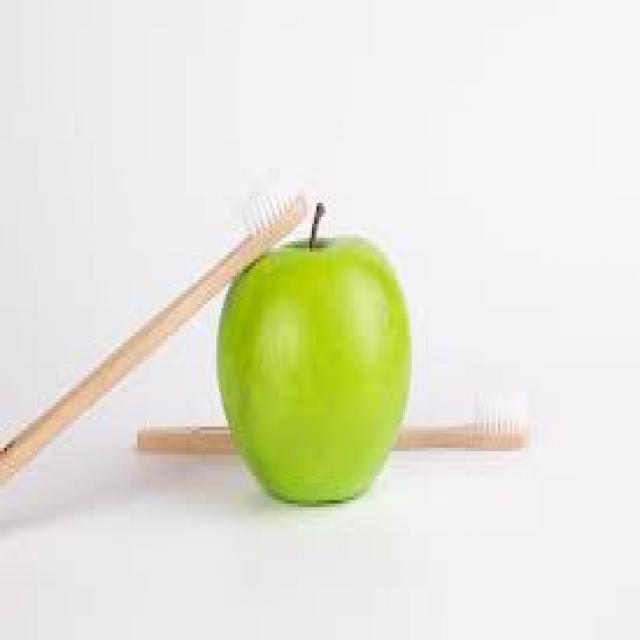Fresh Apple: (220, 218, 415, 517)
